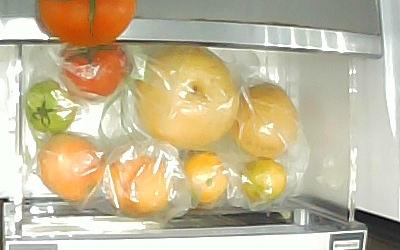peach_vinyl: (35, 130, 105, 201), (103, 152, 171, 215)
pear_vinyl: (132, 43, 239, 148), (234, 82, 302, 160)
tangerine_vinyl: (183, 154, 229, 206), (237, 157, 286, 200)
tomato_vinyl: (58, 44, 126, 98), (23, 77, 76, 134)
